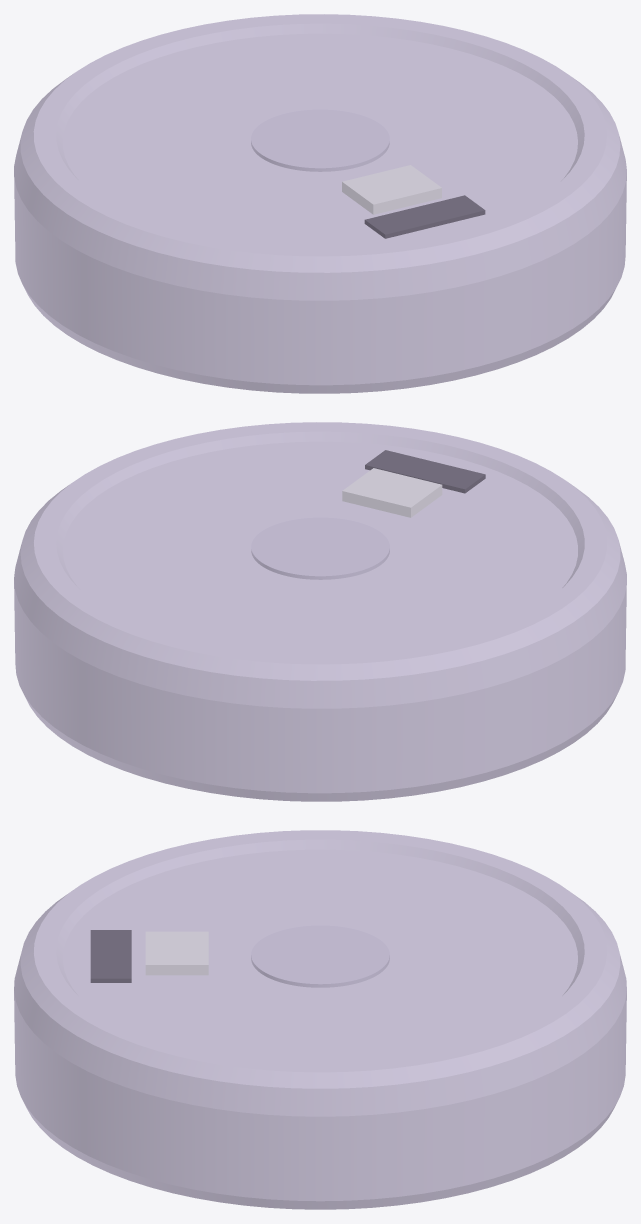
Rendered from lid.glb.
3 views of the same model, one above another, from view 1: azimuth 30°, elevation 25°; view 2: azimuth 150°, elevation 25°; view 3: azimuth 270°, elevation 25° (orthographic).
Parts seen in each view (by area): view 1: lid_m0; view 2: lid_m0; view 3: lid_m0.
Part boxes in pixels (x1,y1,x2,y2): lid_m0: (14,14,626,393); lid_m0: (14,422,626,801); lid_m0: (14,830,626,1209).
Size of the model in its own units: 0.0928 by 0.0225 by 0.0928.
